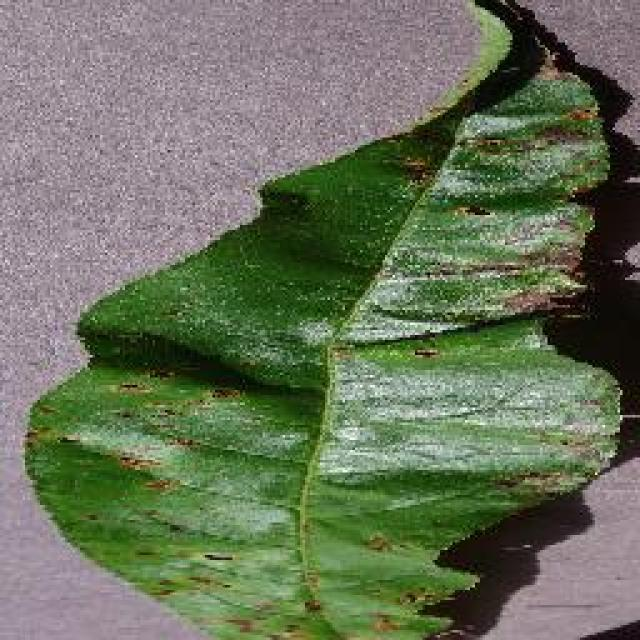Peach_Bacterial_Spot: (370, 28, 602, 447)
